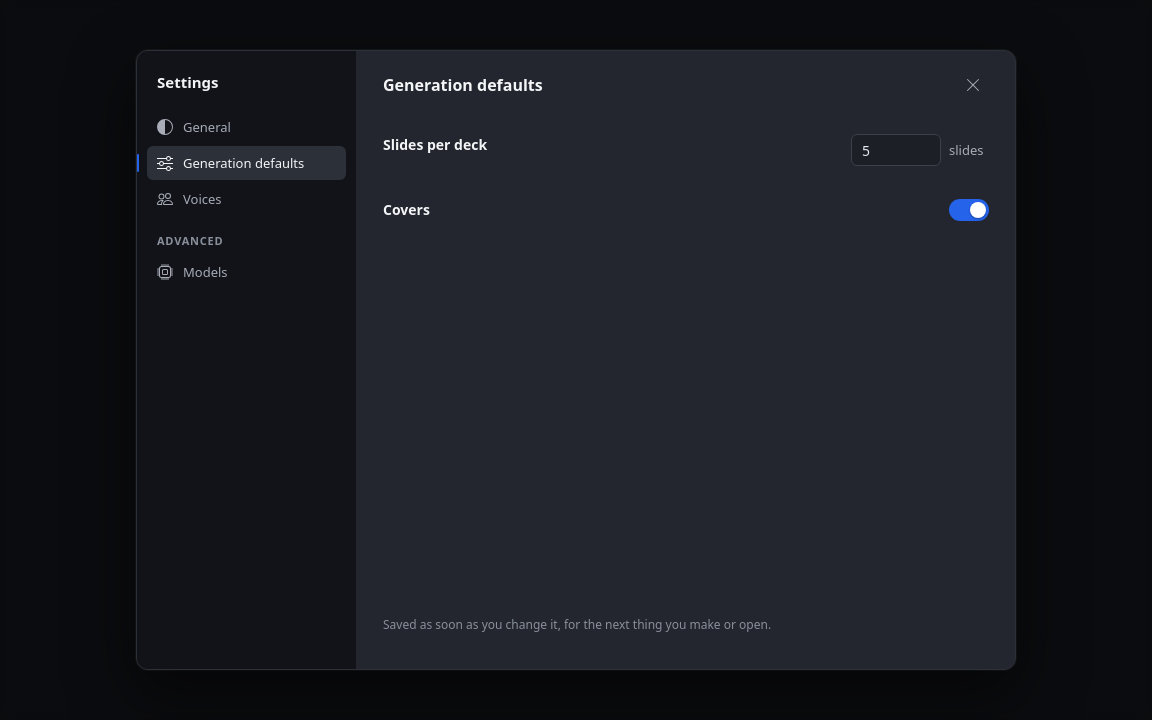
the Settings dialog › says why a refused value was refused, as an alert
Step 1. Replace the text in the number field with "99" → (896, 150), box x1=851 y1=134 x2=941 y2=166
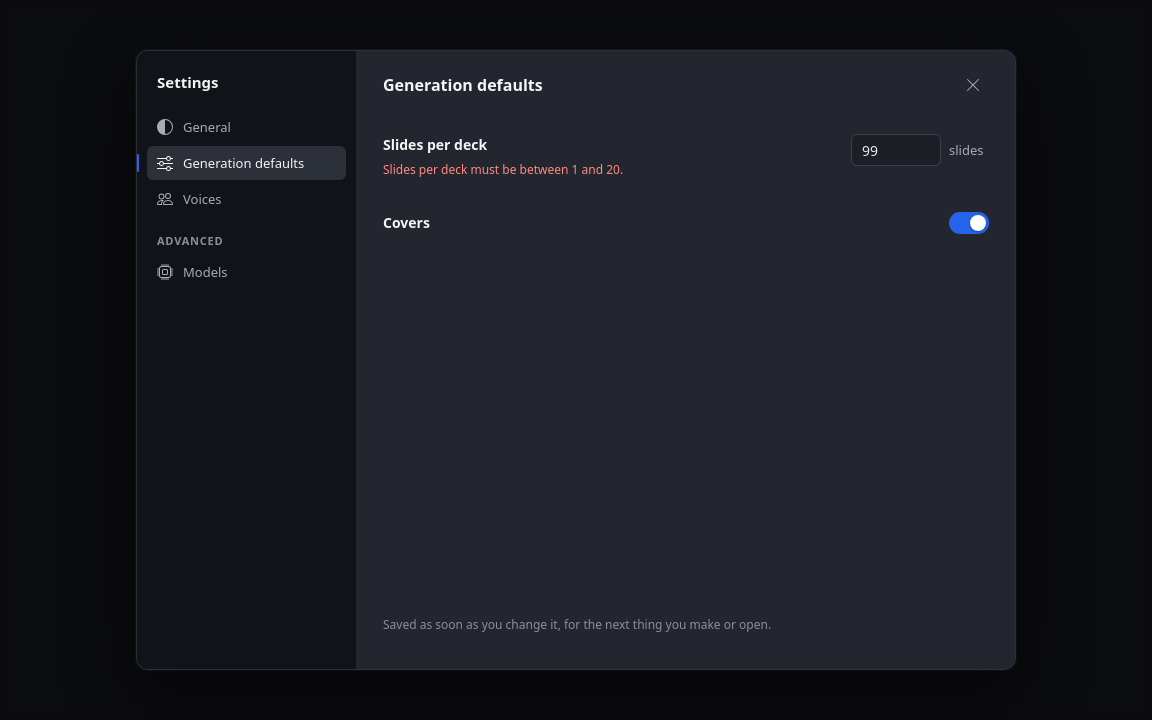
Check: the message reads "Slides per deck must be between 1 and 20.", box x1=383 y1=161 x2=623 y2=178
